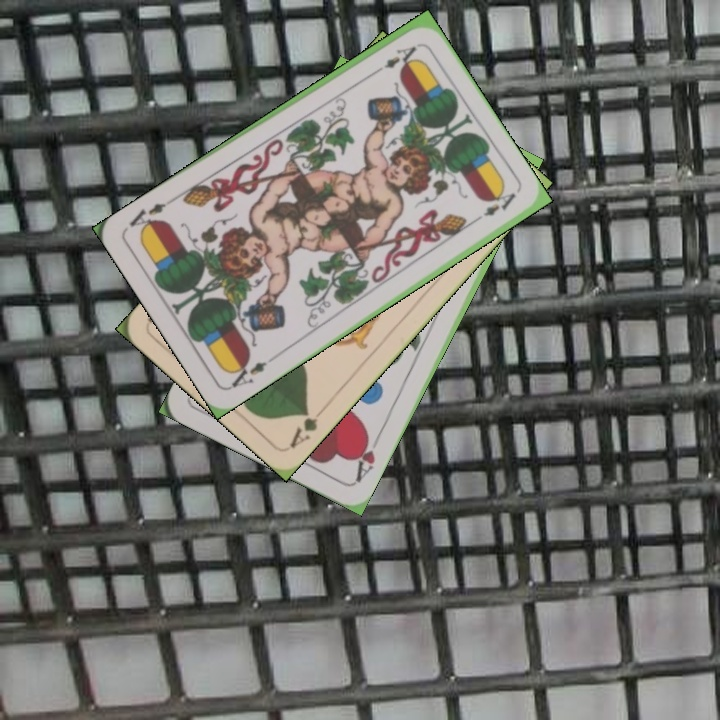EA: (367, 41, 419, 78), (226, 355, 269, 391)
GA: (285, 403, 329, 452)
HA: (350, 430, 378, 485)
